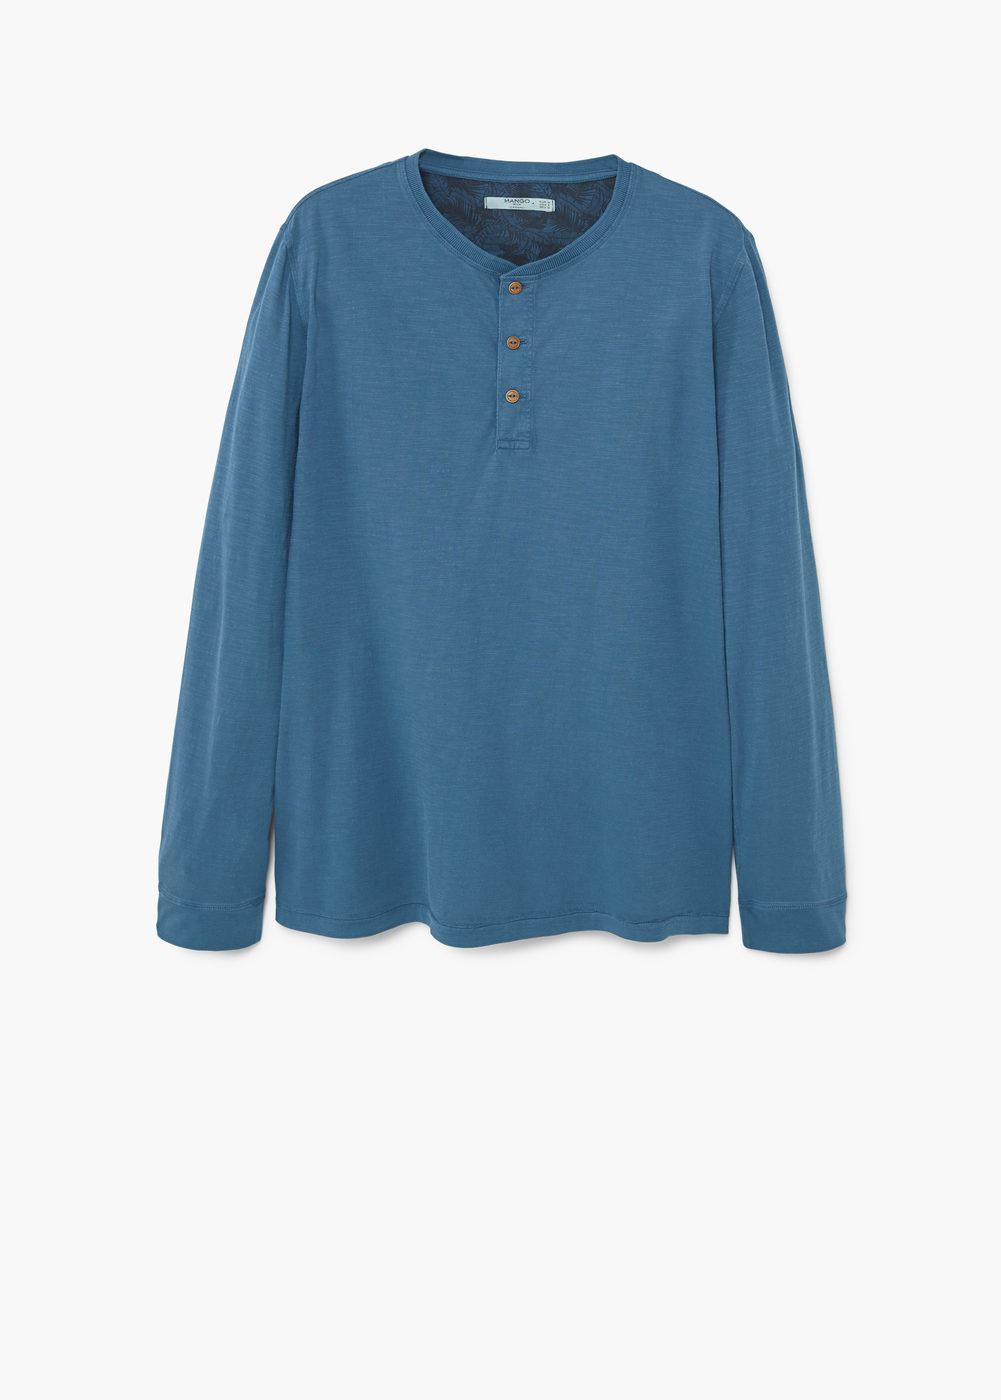teeshirt: (135, 142, 895, 963)
